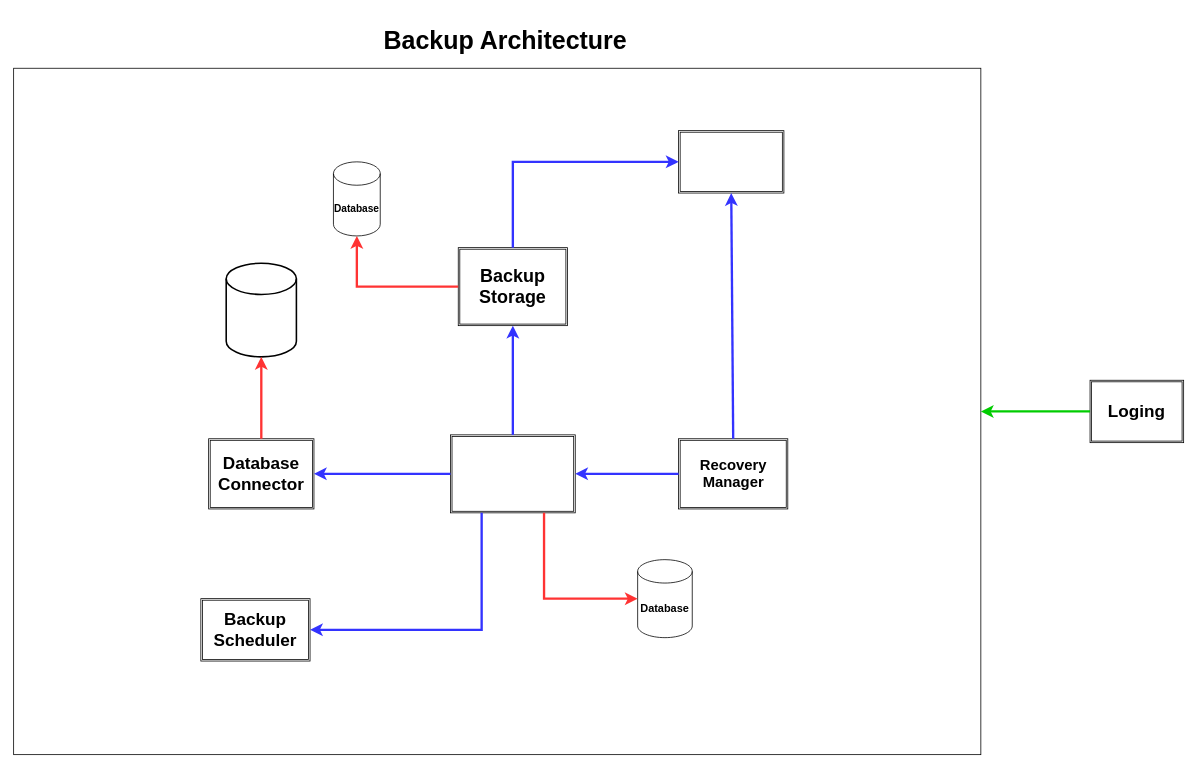
Image size: 1197x768. Some labels were removed from this diagram. The centre of each missing label's shape, as x and y in pixels:
Compression: the point at 731,161
Database Manager: the point at 512,473
Databases: the point at 261,309
